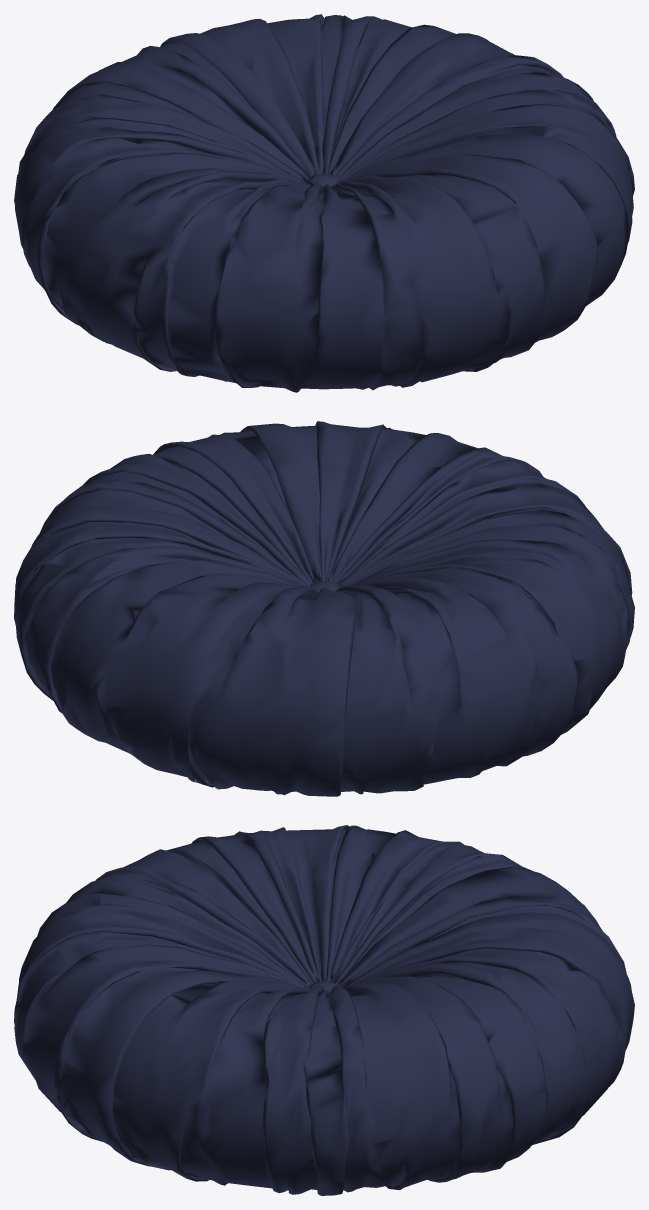
The model's file is pouf.glb.
The picture shows the model from 3 angles, top to bottom: view 1: azimuth 30°, elevation 25°; view 2: azimuth 150°, elevation 25°; view 3: azimuth 270°, elevation 25°; orthographic projection.
Parts seen in each view (by area): view 1: SpecularSilkPouf; view 2: SpecularSilkPouf; view 3: SpecularSilkPouf.
Part boxes in pixels (<box>): SpecularSilkPouf: <box>14,14,634,392</box>; SpecularSilkPouf: <box>14,421,634,796</box>; SpecularSilkPouf: <box>14,825,634,1195</box>.
Bounding box in the file's own units: 0.6099 × 0.1973 × 0.6097.
